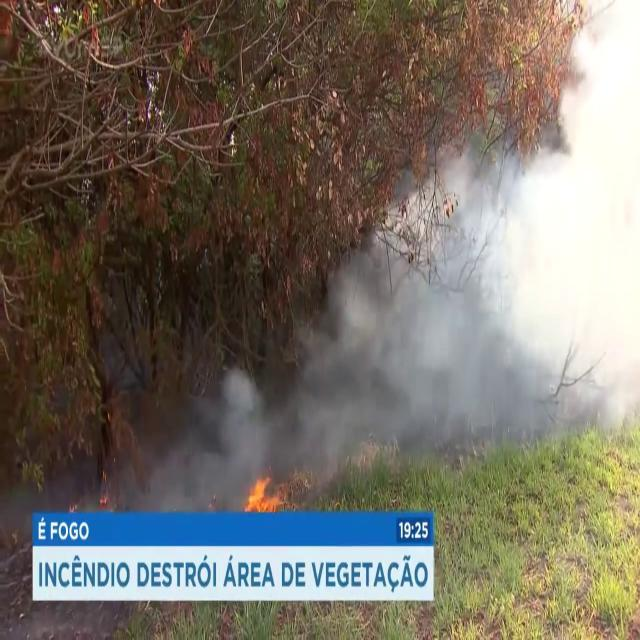Fire: (241, 458, 325, 512)
Smoke: (266, 3, 640, 470)
